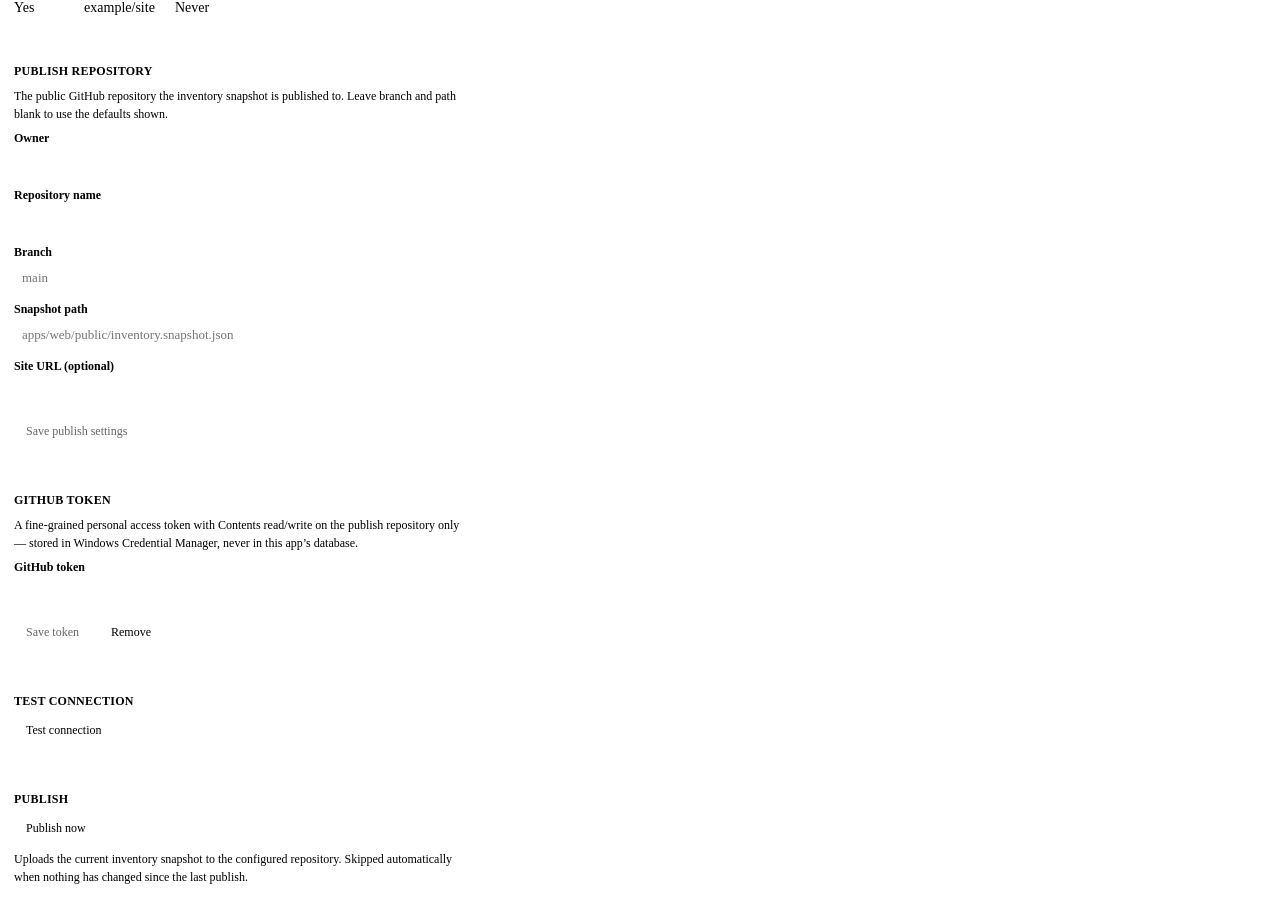
Test: Publish now › toasts Already up to date on the unchanged outcome
This screenshot has width=1280, height=900.
(page scrolled)
Expected: the text "Yes" is shown, [14,0,34,15]
Click the button "Publish now" at (56, 828), box [14,815,98,842]
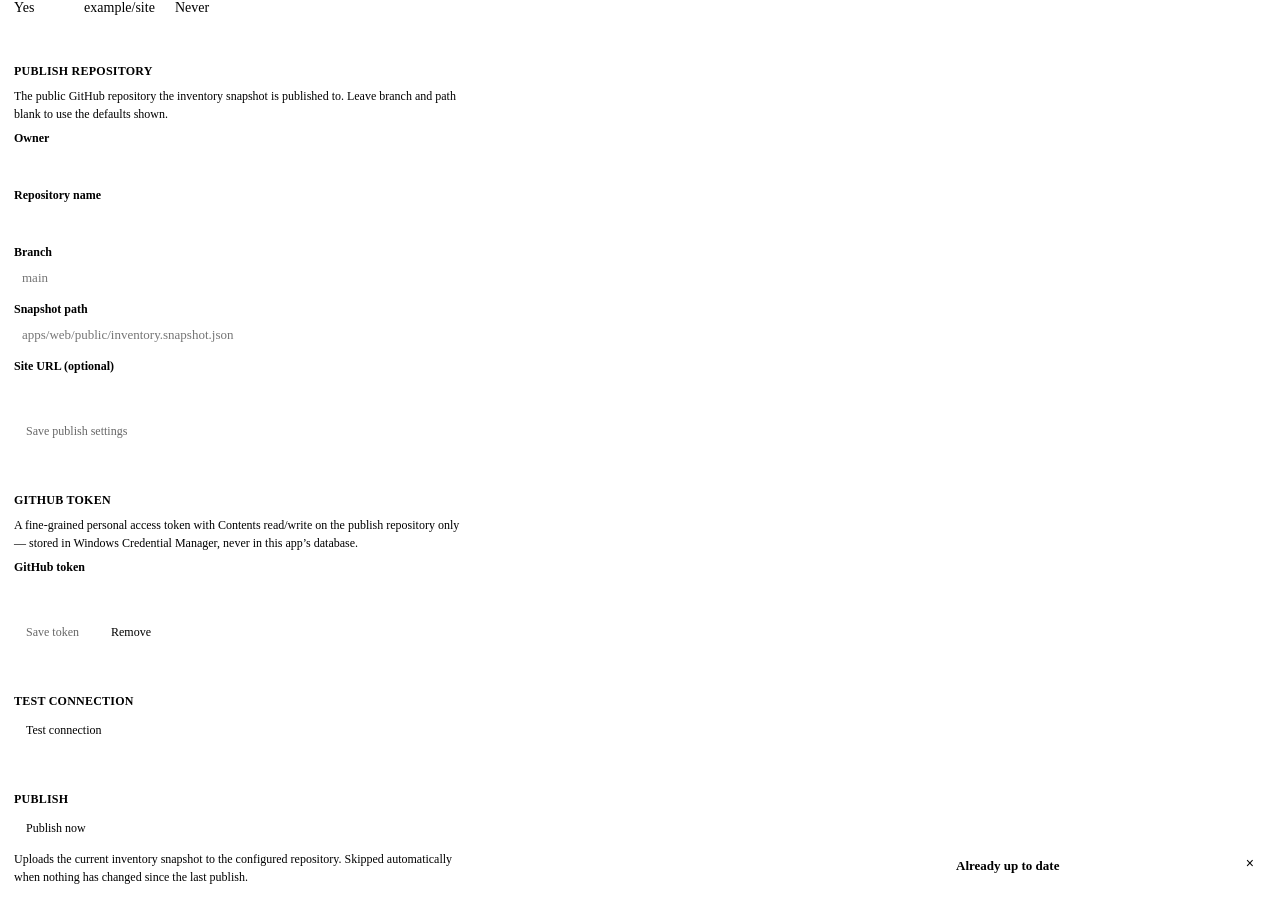
Expected: the text "Already up to date" is shown, [956,858,1059,873]
